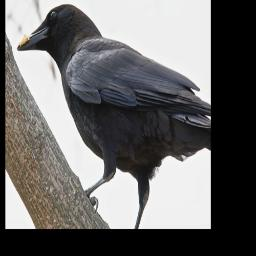Crow: (16, 4, 210, 228)
